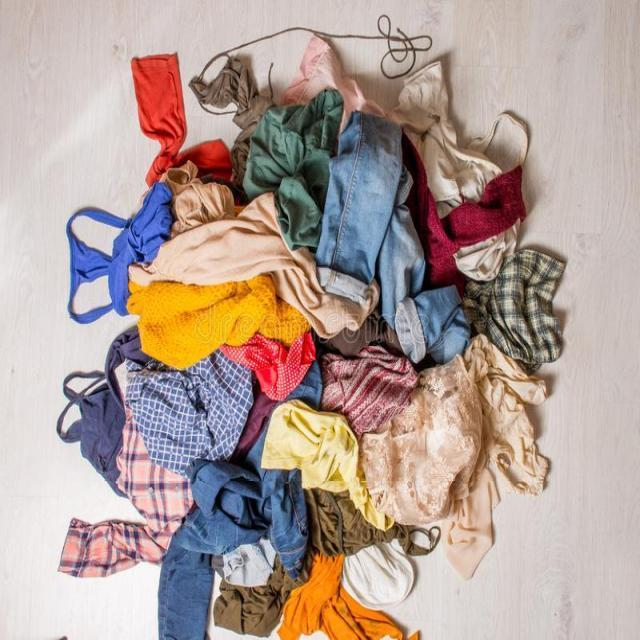clothes: (7, 15, 633, 640)
